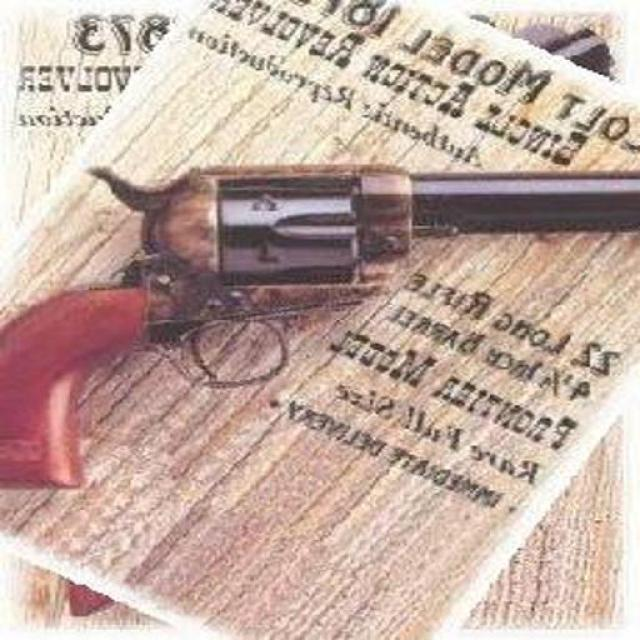pistol: (2, 160, 636, 487)
